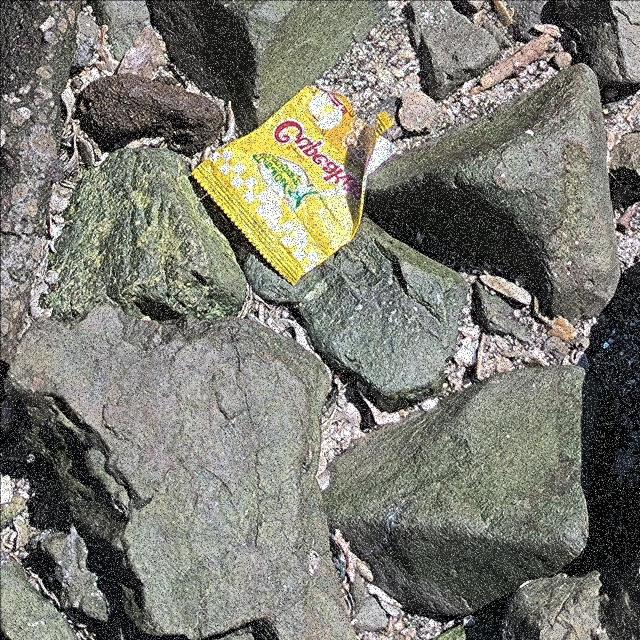plastic_waste: (189, 84, 397, 287)
